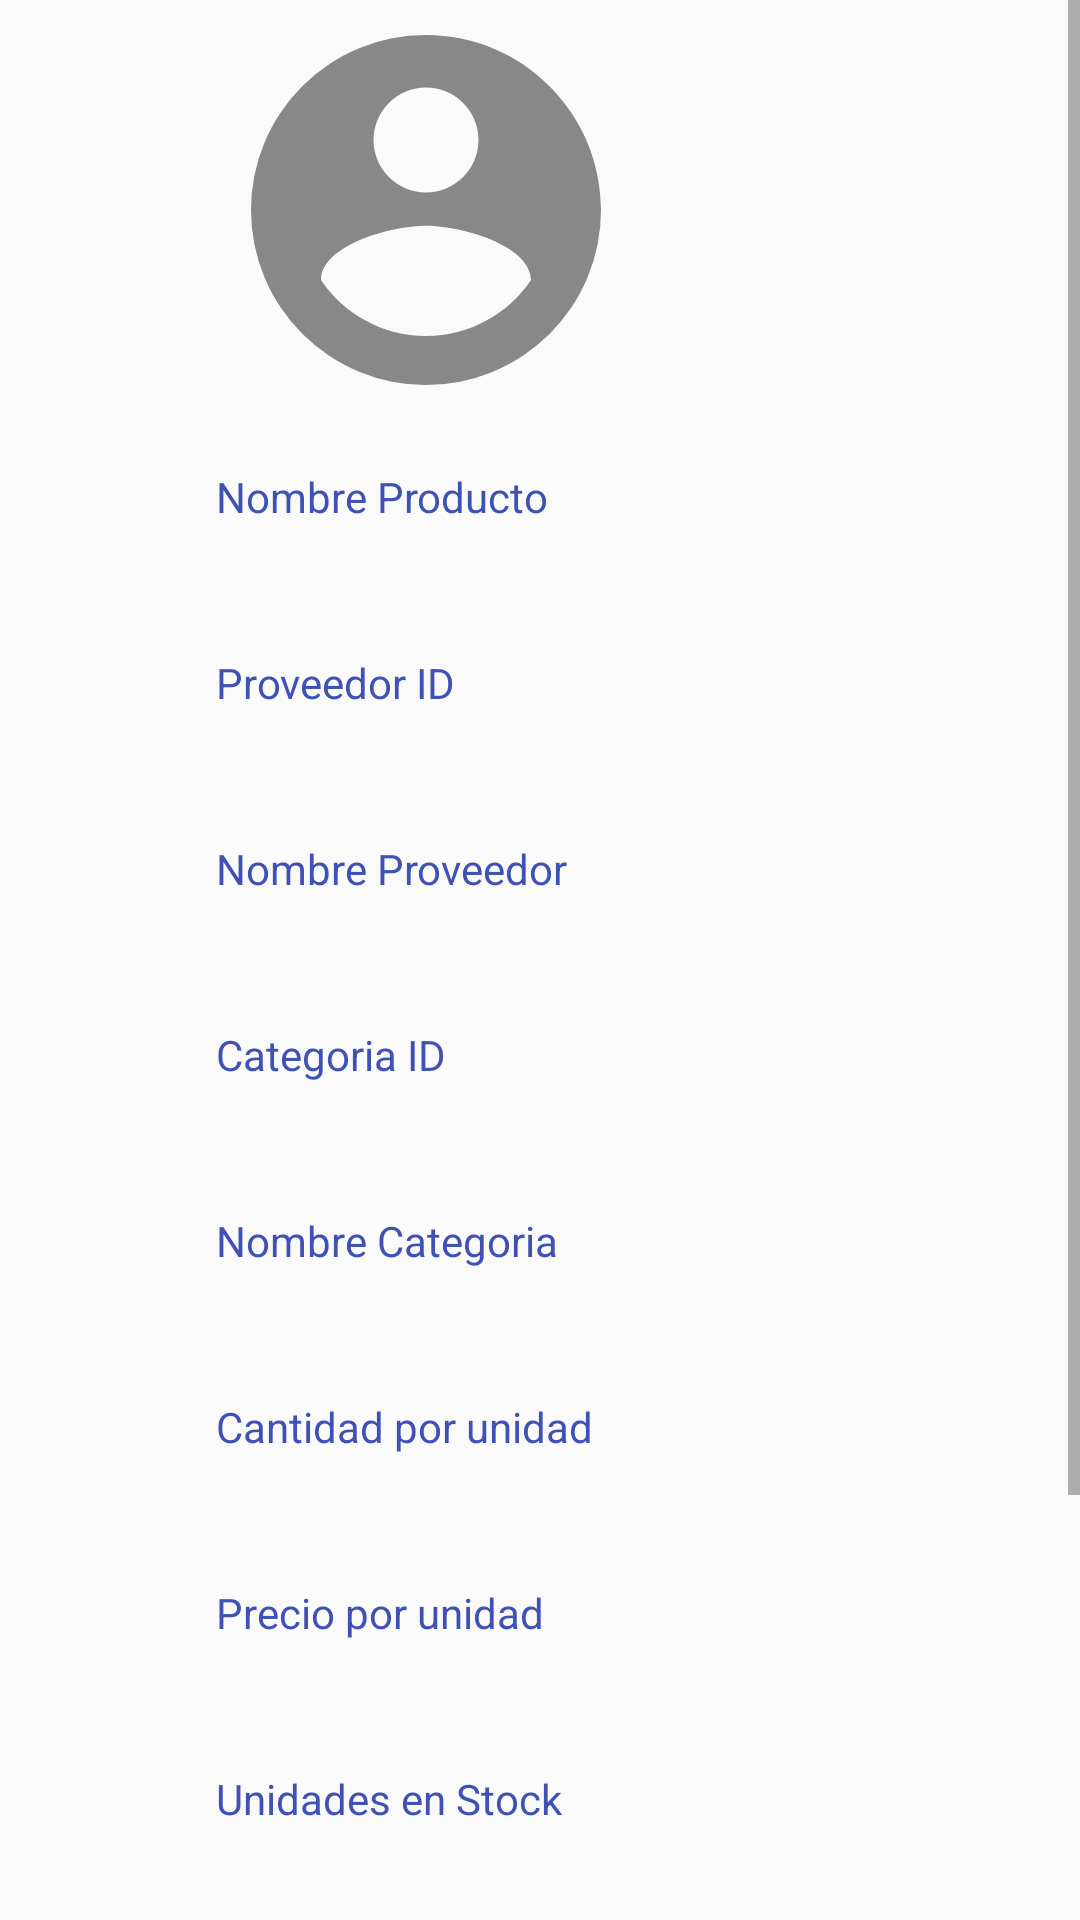

Screen size 1080*1920. Icon name, then its center in pixels as (x=x, y=y):
account circle: (x=426, y=210)
